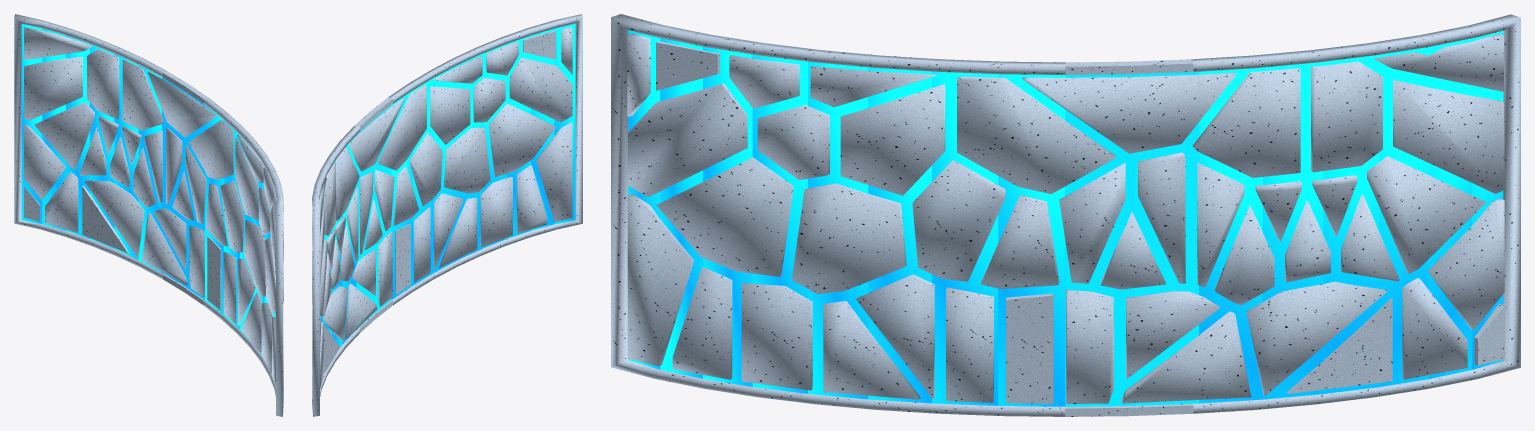
File: m1d_curved_screen_frame.glb
3 views of the same model, side by side, from view 1: azimuth 30°, elevation 25°; view 2: azimuth 150°, elevation 25°; view 3: azimuth 270°, elevation 25° (orthographic). The views are drawn at different scales.
Parts seen in each view (by area): view 1: videoFframe; view 2: videoFframe; view 3: videoFframe.
Part boxes in pixels (bbox=[...]): videoFframe: bbox=[14, 14, 283, 416]; videoFframe: bbox=[312, 14, 582, 416]; videoFframe: bbox=[611, 14, 1520, 416].
Size of what is drawn, in the model's own units: 2.05 by 6.31 by 14.86.
2 materials, 2 textured.
